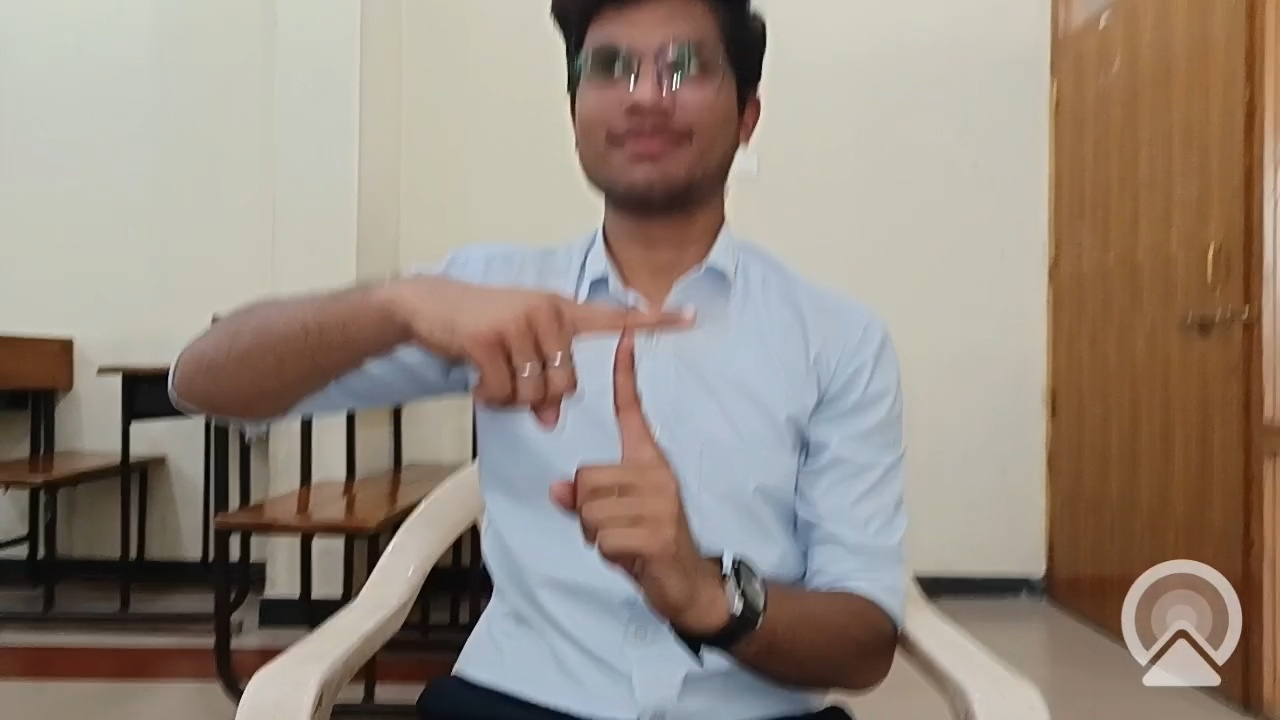T: (436, 213, 776, 636)
